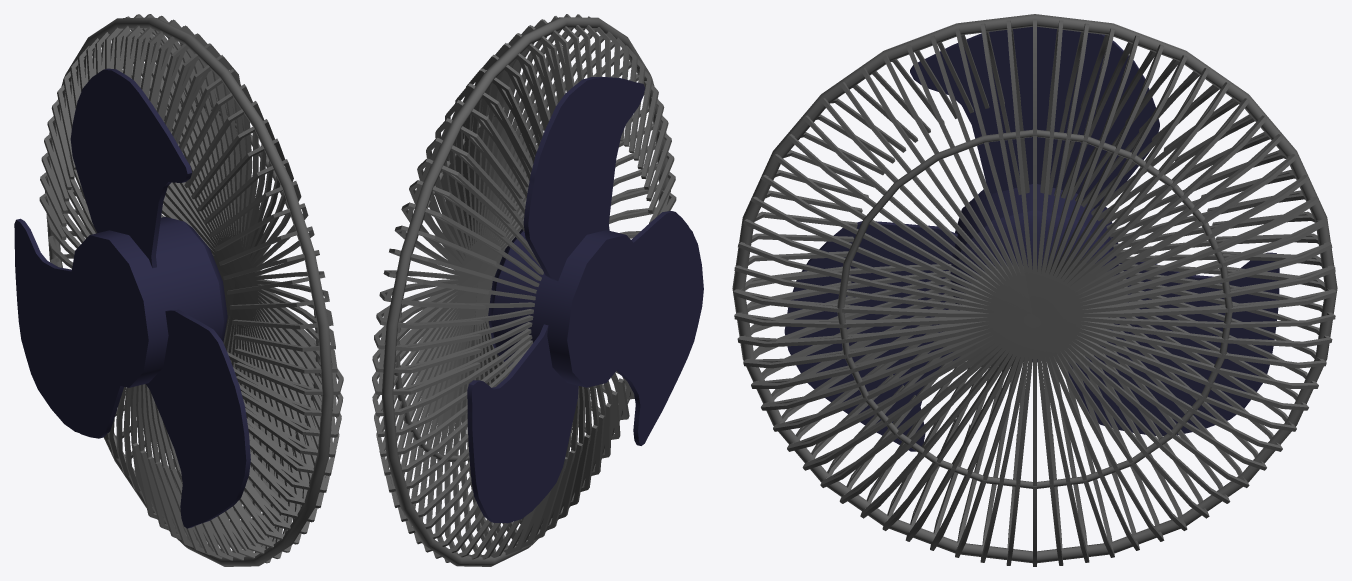
The model's file is ventilotorrrr 1.fbx.
3 views of the same model, side by side, from view 1: azimuth 30°, elevation 25°; view 2: azimuth 150°, elevation 25°; view 3: azimuth 270°, elevation 25° (orthographic). The views are drawn at different scales.
Parts seen in each view (by area): view 1: Line048, Cylinder004; view 2: Line048, Cylinder004; view 3: Line048, Cylinder004.
Boxes of the visible parts, bbox=[...] form: Line048: bbox=[39, 14, 343, 566]; Cylinder004: bbox=[14, 68, 250, 528]; Line048: bbox=[372, 14, 676, 566]; Cylinder004: bbox=[467, 77, 703, 523]; Line048: bbox=[732, 14, 1337, 566]; Cylinder004: bbox=[784, 26, 1279, 451].
Bounding box in the file's own units: 283 × 1057 × 1057.
